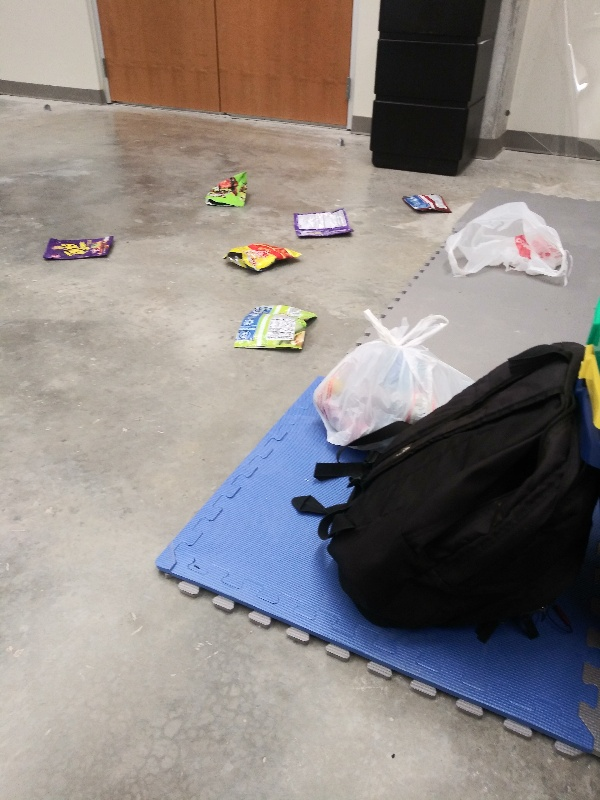bag: (228, 300, 324, 355), (216, 237, 309, 277), (37, 230, 121, 265), (284, 204, 357, 244), (200, 167, 258, 216), (399, 190, 455, 217)
